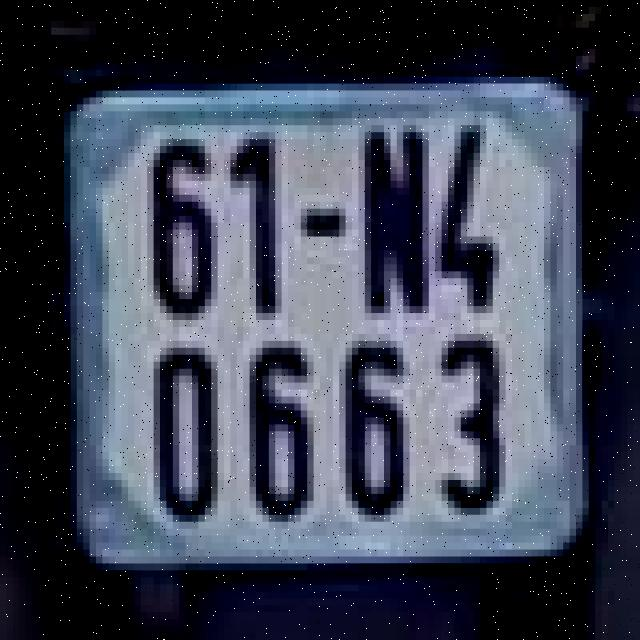0: (138, 338, 234, 532)
1: (221, 118, 291, 320)
3: (426, 331, 515, 518)
4: (436, 118, 518, 313)
6: (330, 330, 419, 526), (144, 125, 221, 327), (240, 327, 317, 529)
N: (356, 115, 438, 323)
